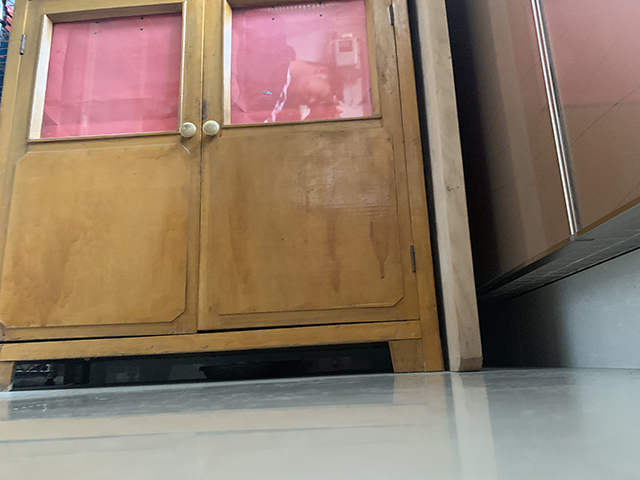cabinet: (1, 1, 450, 393), (446, 1, 639, 370)
